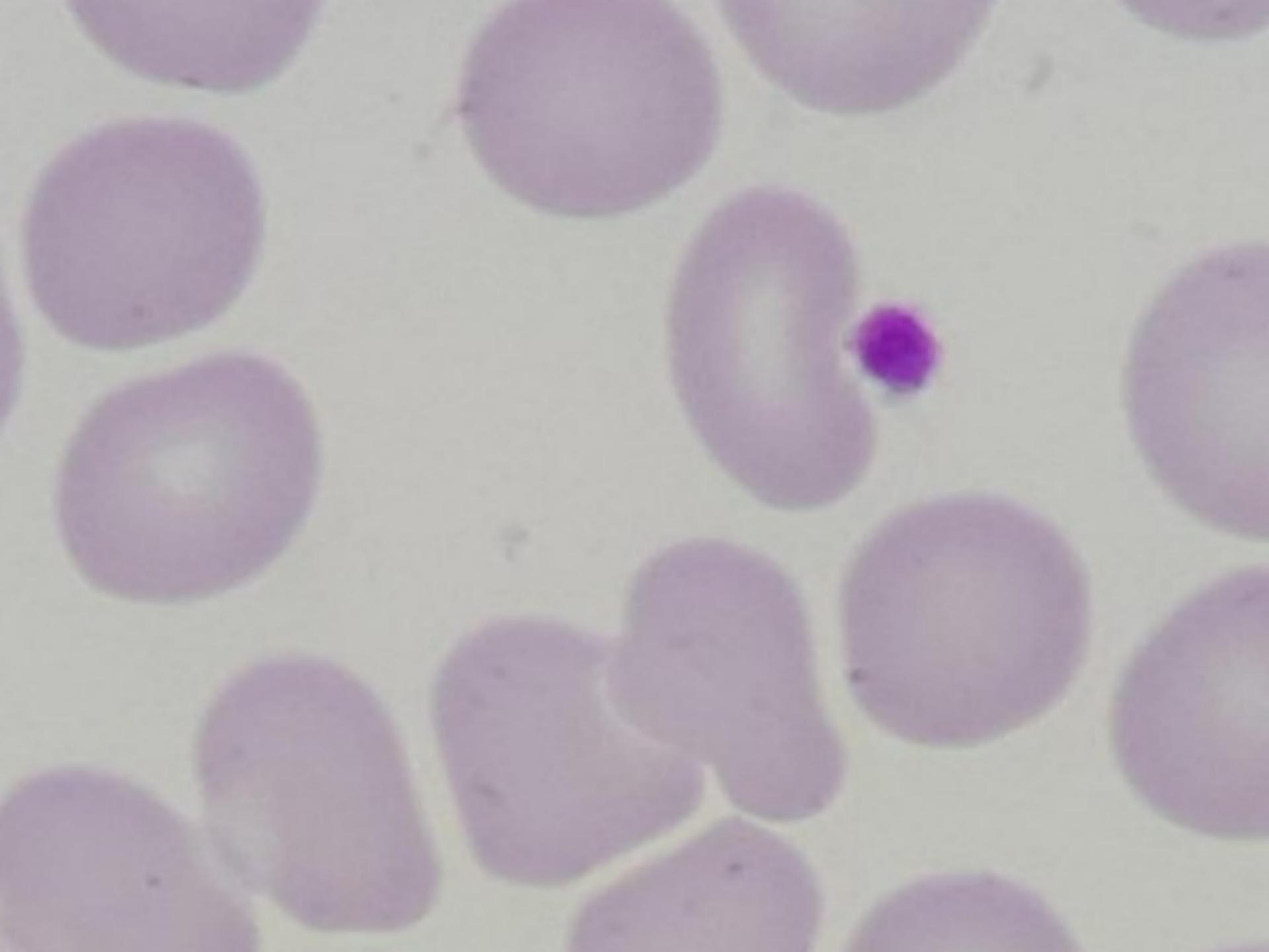Uninfected: (431, 616, 701, 886), (58, 355, 319, 610), (671, 189, 877, 509), (618, 539, 847, 826), (197, 654, 429, 925), (846, 491, 1088, 746), (463, 0, 714, 215), (31, 121, 253, 349), (8, 768, 255, 952), (1127, 238, 1269, 544), (1117, 565, 1269, 842), (563, 821, 823, 952), (719, 0, 991, 116), (73, 0, 310, 94)
